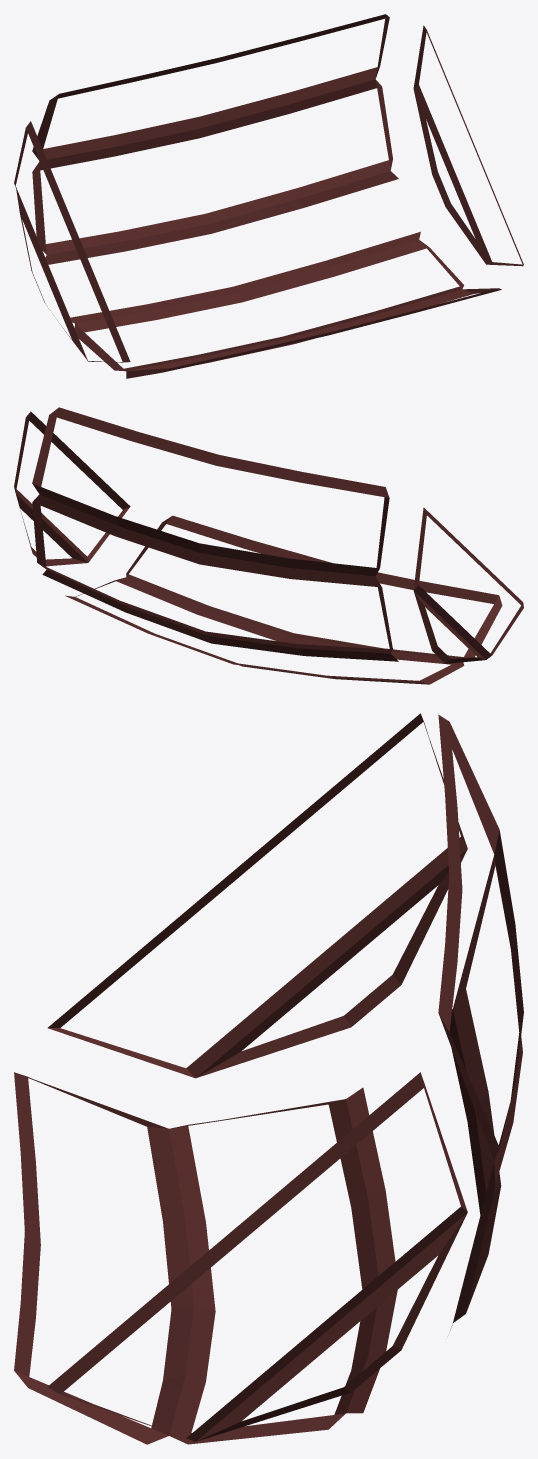
Rendered from n2_chest_top_dark_brown_0_lev2.001.glb.
The picture shows the model from 3 angles, top to bottom: view 1: azimuth 30°, elevation 25°; view 2: azimuth 150°, elevation 25°; view 3: azimuth 270°, elevation 25°; orthographic projection. The views are drawn at different scales.
Parts seen in each view (by area): view 1: n2_chest_top_dark_brown_0_lev2.001; view 2: n2_chest_top_dark_brown_0_lev2.001; view 3: n2_chest_top_dark_brown_0_lev2.001.
Boxes of the visible parts, box(x1,y1,x2,y2) form: n2_chest_top_dark_brown_0_lev2.001: box(14, 14, 523, 378); n2_chest_top_dark_brown_0_lev2.001: box(14, 407, 523, 684); n2_chest_top_dark_brown_0_lev2.001: box(14, 713, 523, 1444).
Bounding box in the file's own units: 1.24 × 0.697 × 0.7192.
